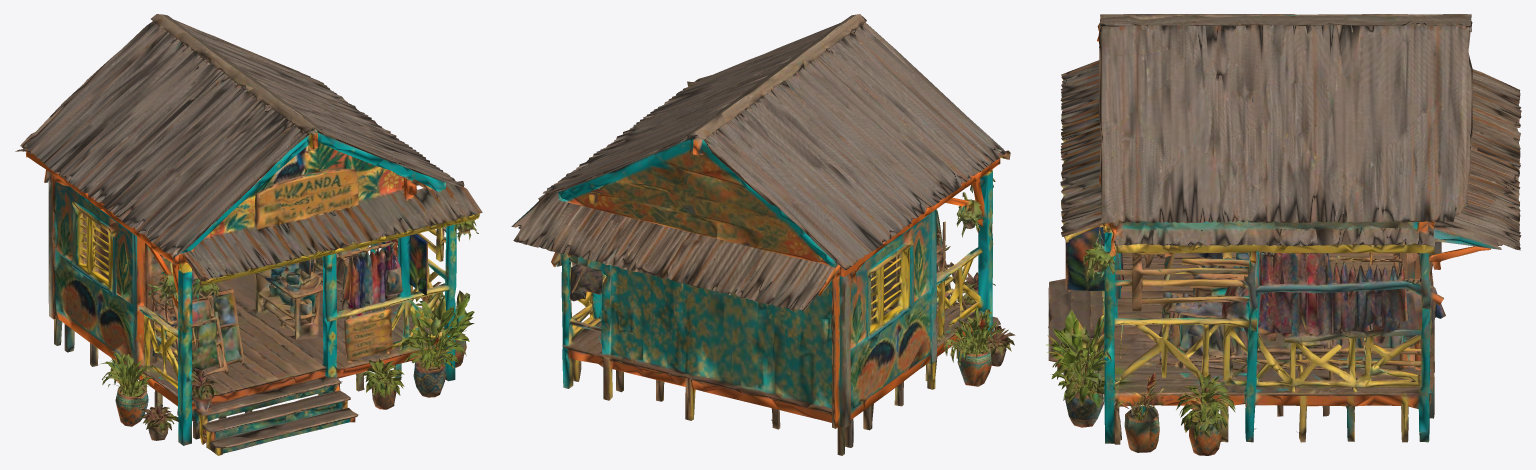
Rendered from kuranda-art.glb.
The picture shows the model from 3 angles, left to right: view 1: azimuth 30°, elevation 25°; view 2: azimuth 150°, elevation 25°; view 3: azimuth 270°, elevation 25°; orthographic projection. The views are drawn at different scales.
Size of the model in its own units: 1.86 by 1.47 by 1.84.
1 material, 1 textured.
